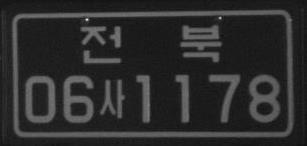0: (23, 74, 56, 124)
1: (132, 73, 157, 124), (169, 74, 195, 123)
6: (61, 73, 94, 124)
7: (208, 72, 241, 123)
8: (247, 73, 281, 123)
사: (98, 78, 125, 118)
전북_D: (80, 22, 222, 65)
